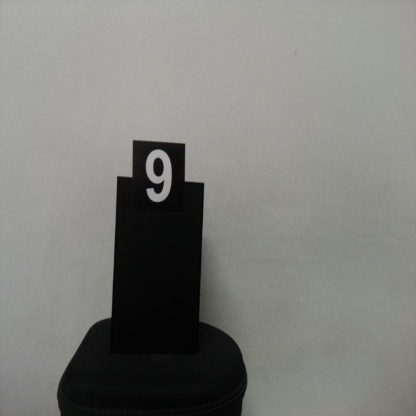id_9: (133, 141, 186, 225)
